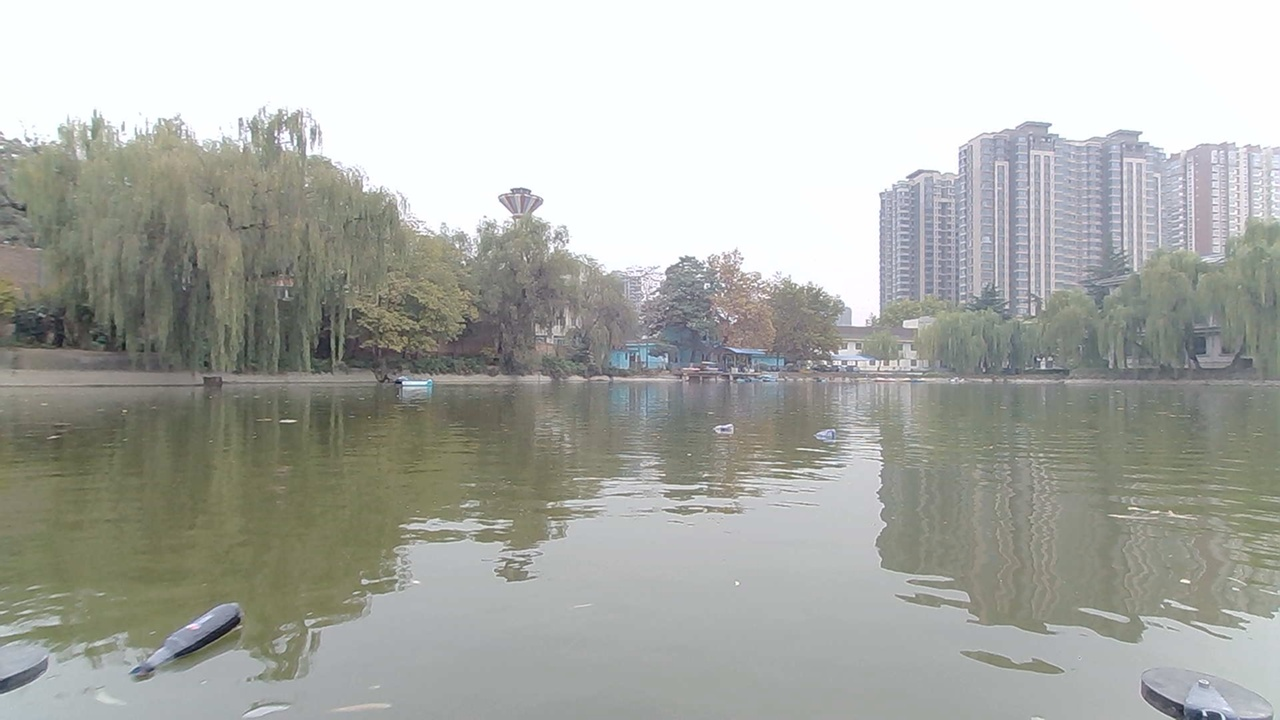bottle: (123, 579, 272, 676), (702, 411, 741, 437), (815, 428, 848, 445)
